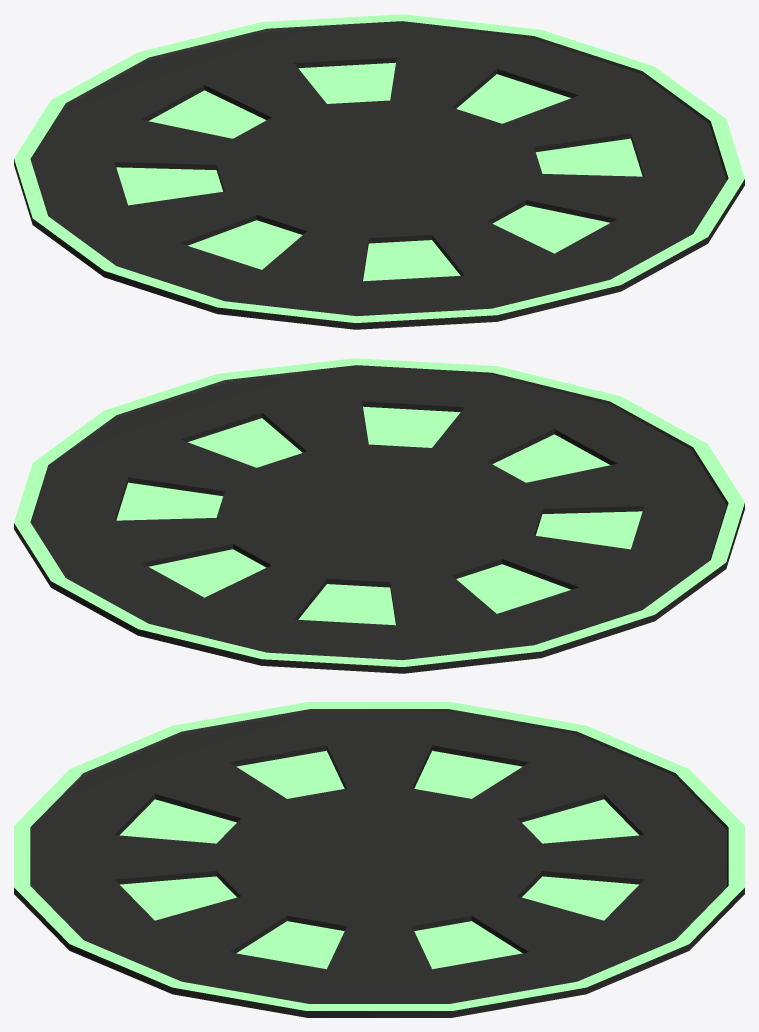
File: luk.fbx
3 views of the same model, one above another, from view 1: azimuth 30°, elevation 25°; view 2: azimuth 150°, elevation 25°; view 3: azimuth 270°, elevation 25° (orthographic).
Visible parts, largest first — view 1: Окружность; view 2: Окружность; view 3: Окружность.
Boxes of the visible parts, <box> form: Окружность: <box>14,14,744,329</box>; Окружность: <box>14,358,744,673</box>; Окружность: <box>14,702,744,1017</box>.
Size of the model in its own units: 1.96 by 0.02 by 1.96.
